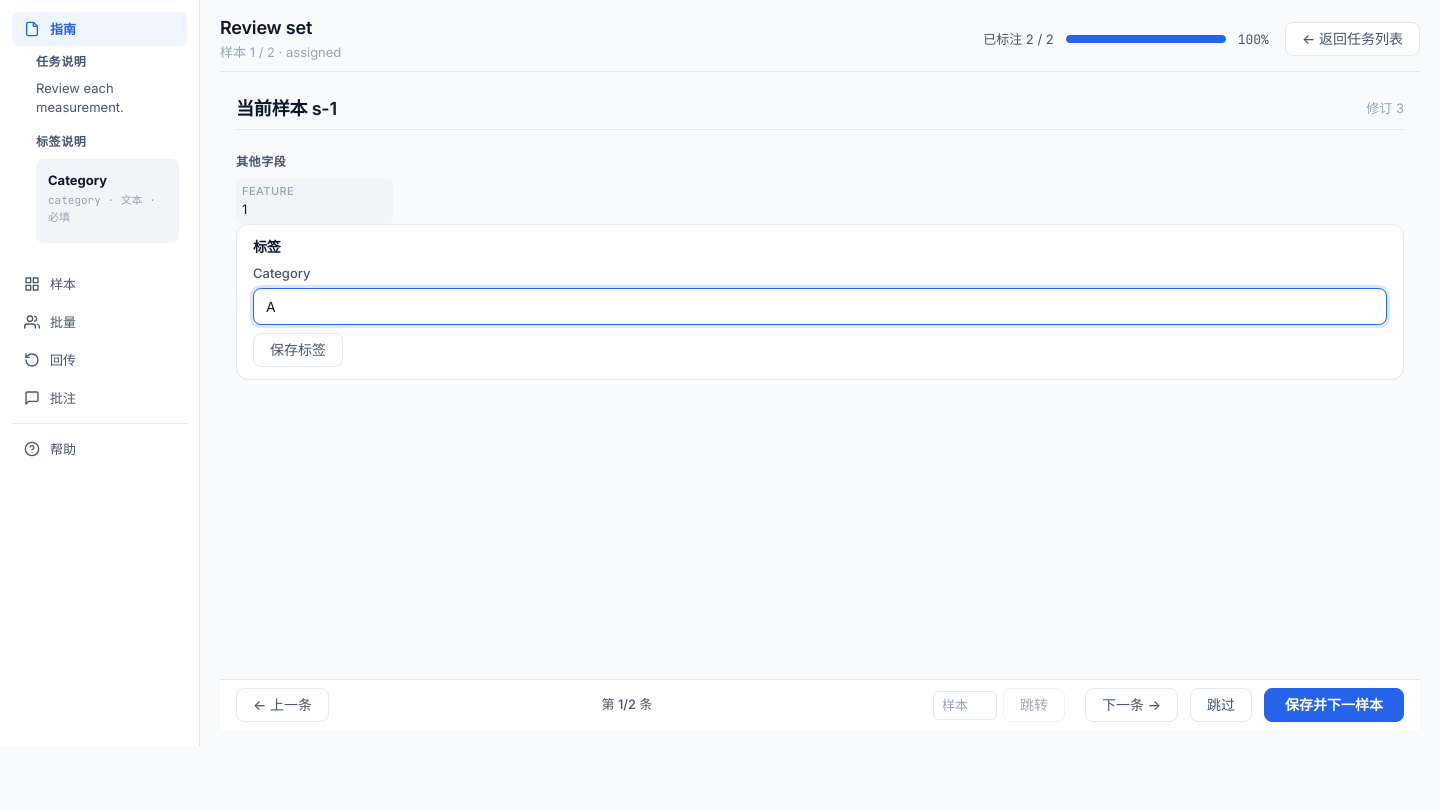
Test: TaskWorkspacePage › creates task-level comments and preserves a failed submission for retry
Expected: the field named "category-s-1" is shown, [253,288,1387,325]
Click the tab "批注": click(100, 398) [12,381,187,415]
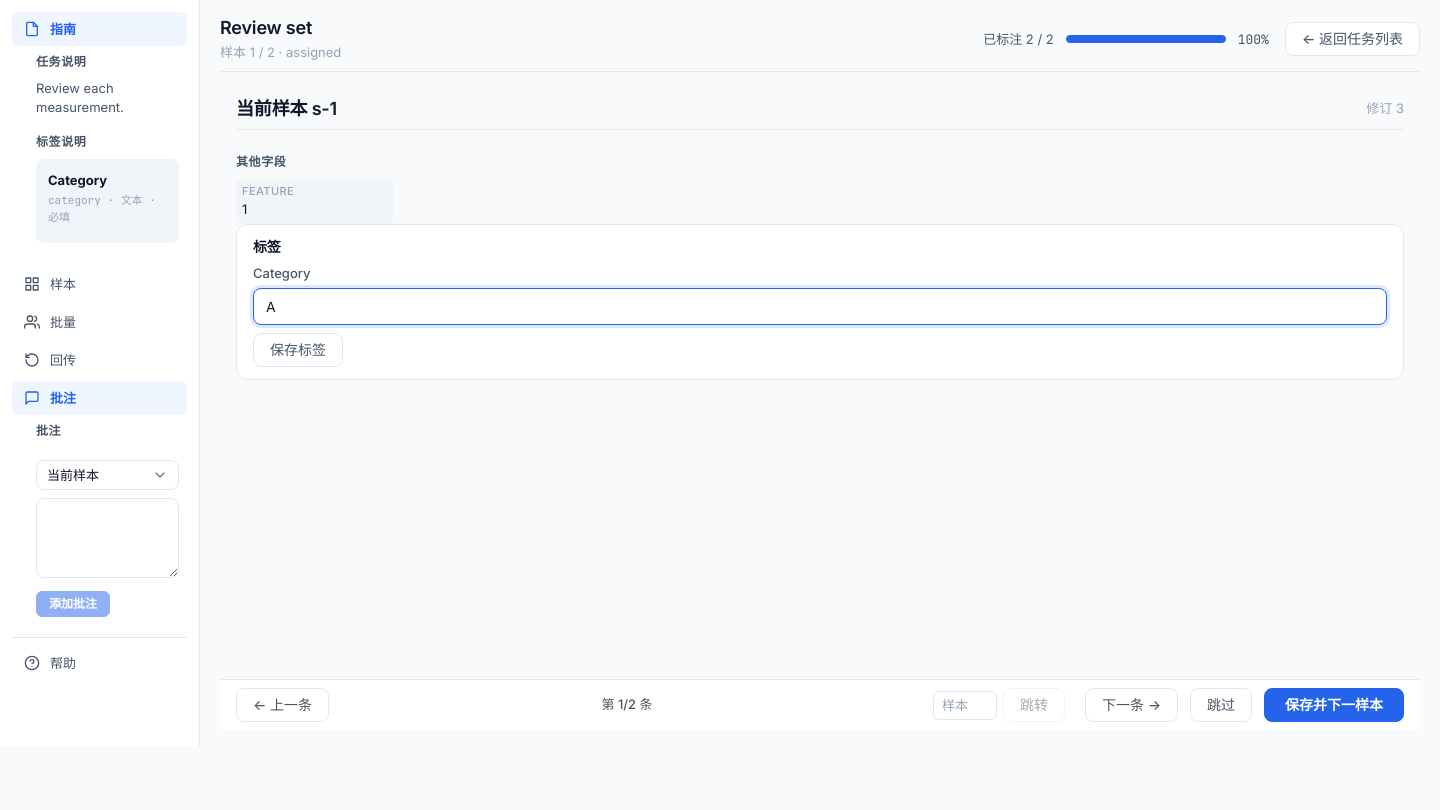
Select "整个任务" in the dropdown named "批注范围": (108, 475) [36,460,179,490]
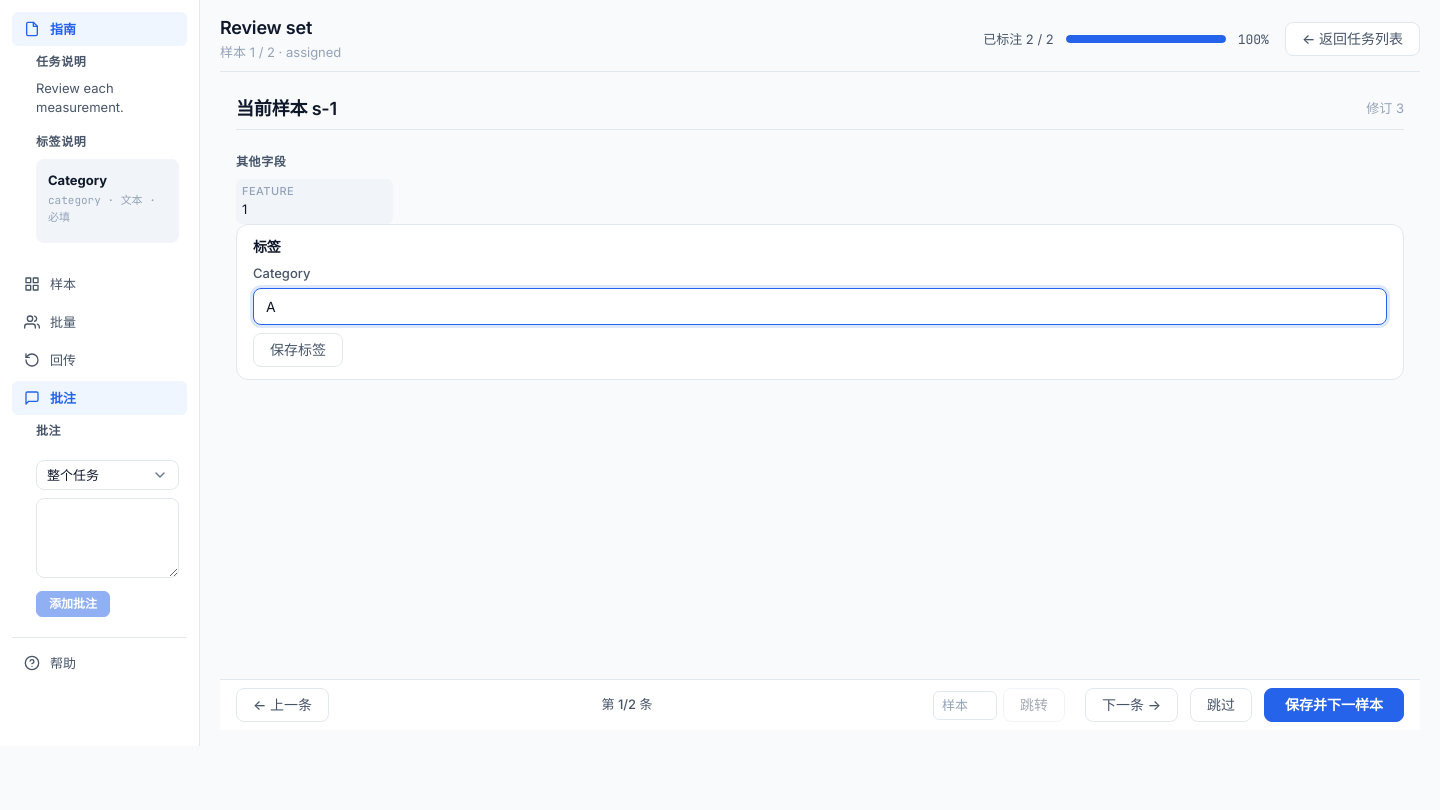
In the text box named "新增批注": (108, 538) [36,498,179,578], type "task note"
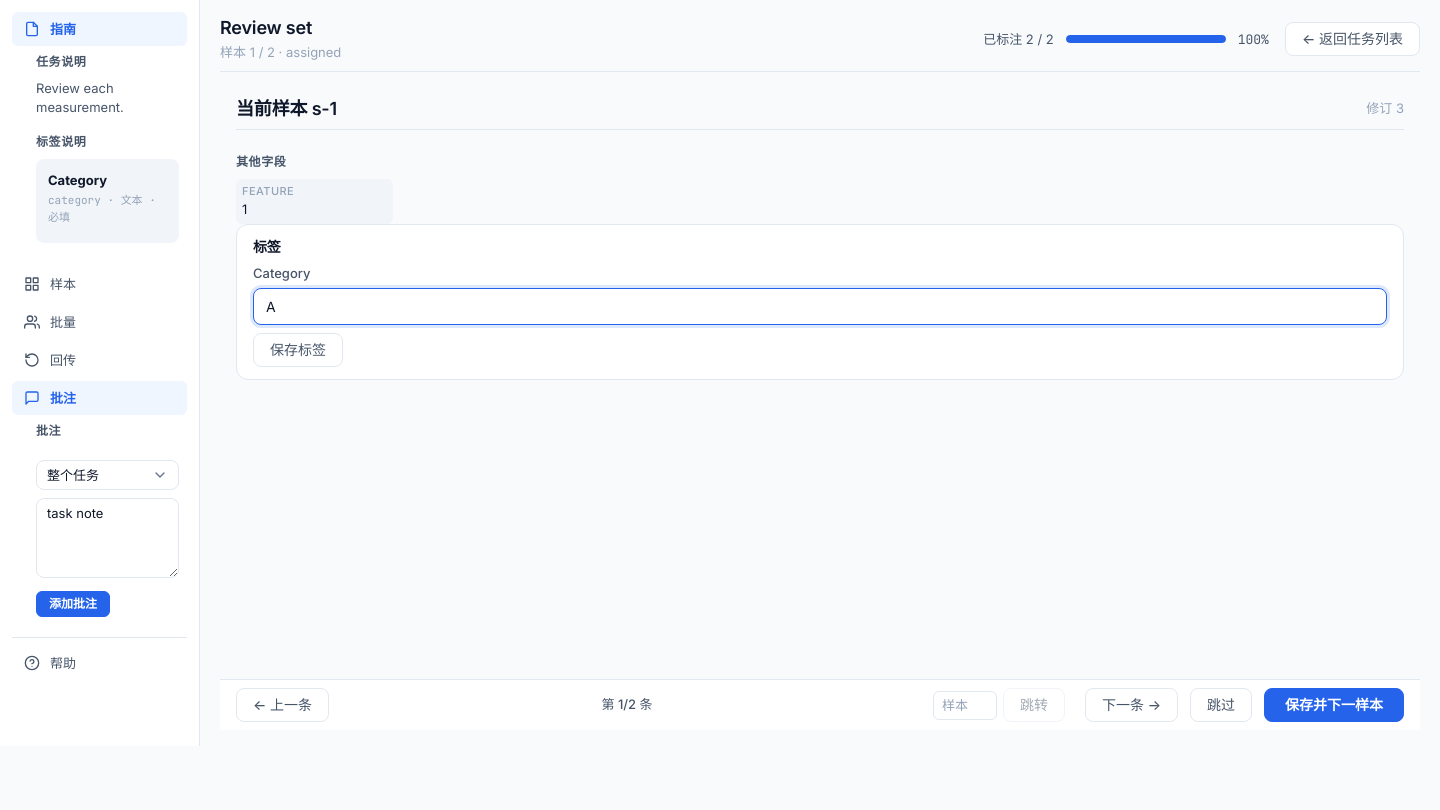
Click the button "添加批注": click(73, 604) [36,591,110,617]
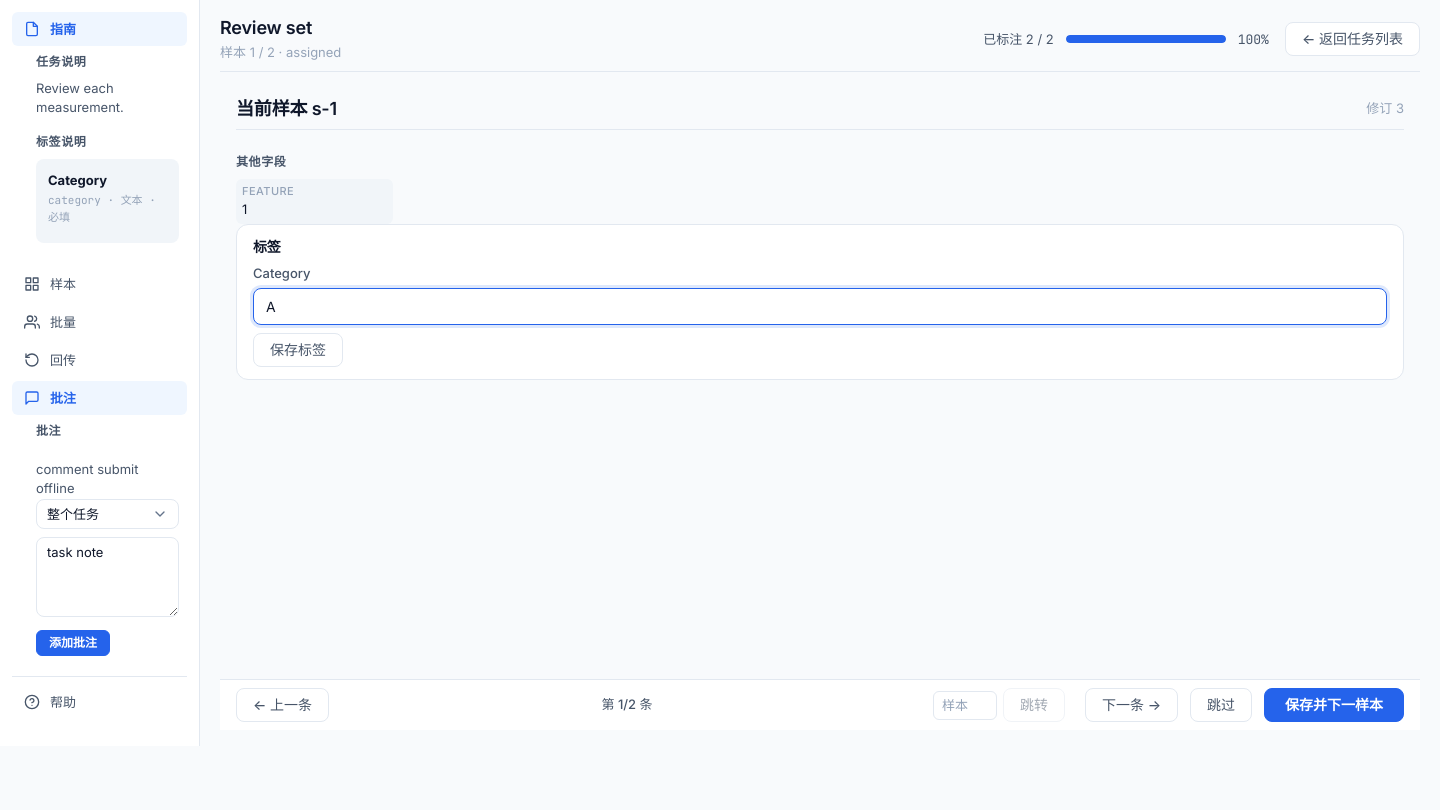
Result: the text "comment submit offline" is shown at [36,461,138,496]
